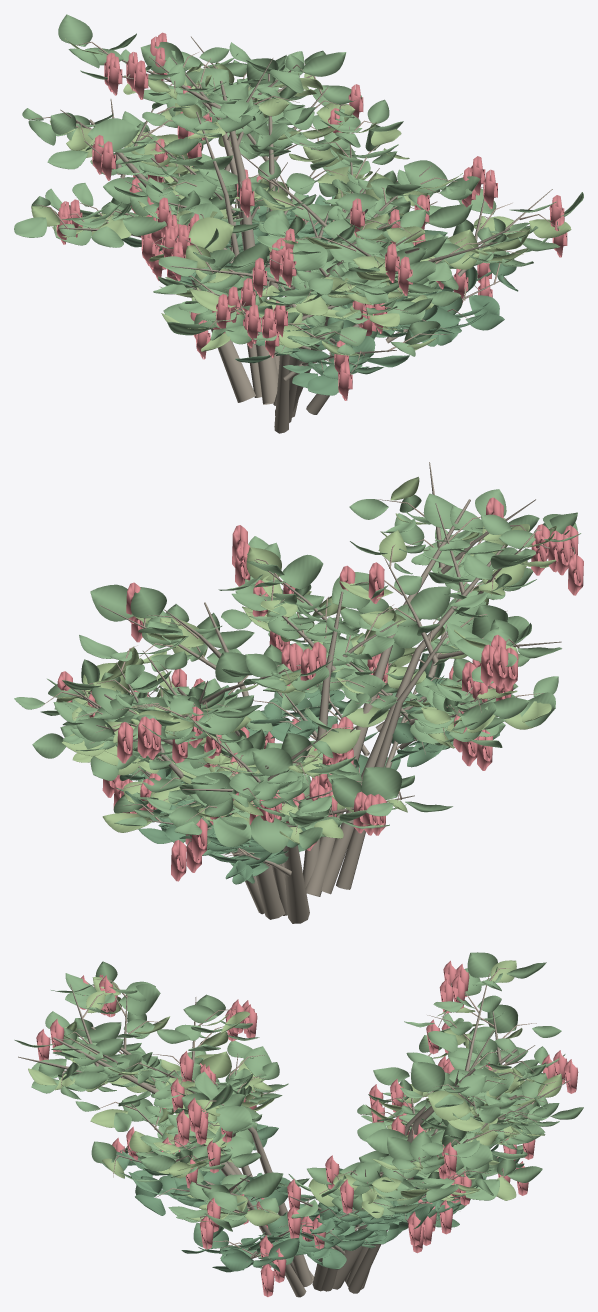
The picture shows the model from 3 angles, top to bottom: view 1: azimuth 30°, elevation 25°; view 2: azimuth 150°, elevation 25°; view 3: azimuth 270°, elevation 25°; orthographic projection. The views are drawn at different scales.
Parts seen in each view (by area): view 1: bush_berry; view 2: bush_berry; view 3: bush_berry.
Part boxes in pixels (box(x1,y1,x2,y2)): bush_berry: box(14, 14, 583, 433); bush_berry: box(14, 462, 583, 923); bush_berry: box(14, 952, 583, 1297).
Bounding box in the file's own units: 2.36 × 1.61 × 2.88.
